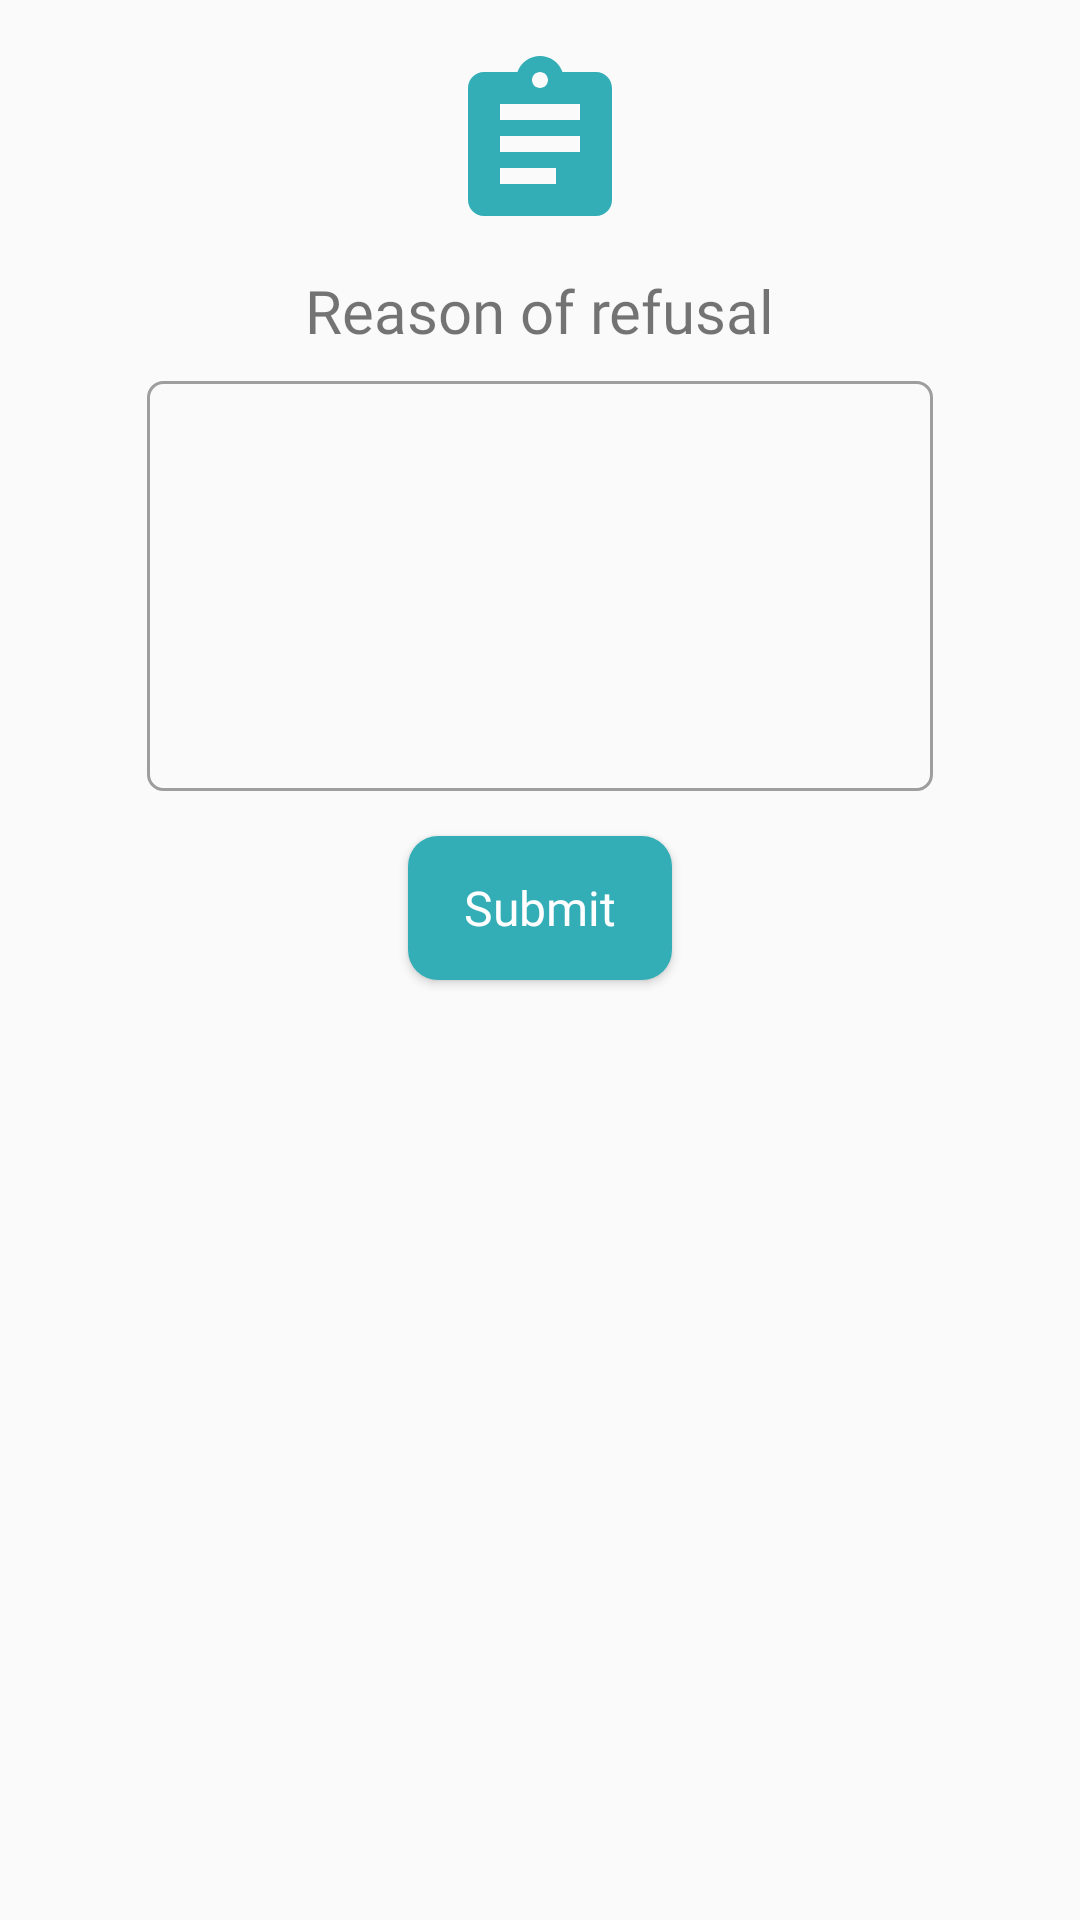

Icon click points for this 1080 x 1920 phone screenshot, format (x,y):
assignment: (540,136)
